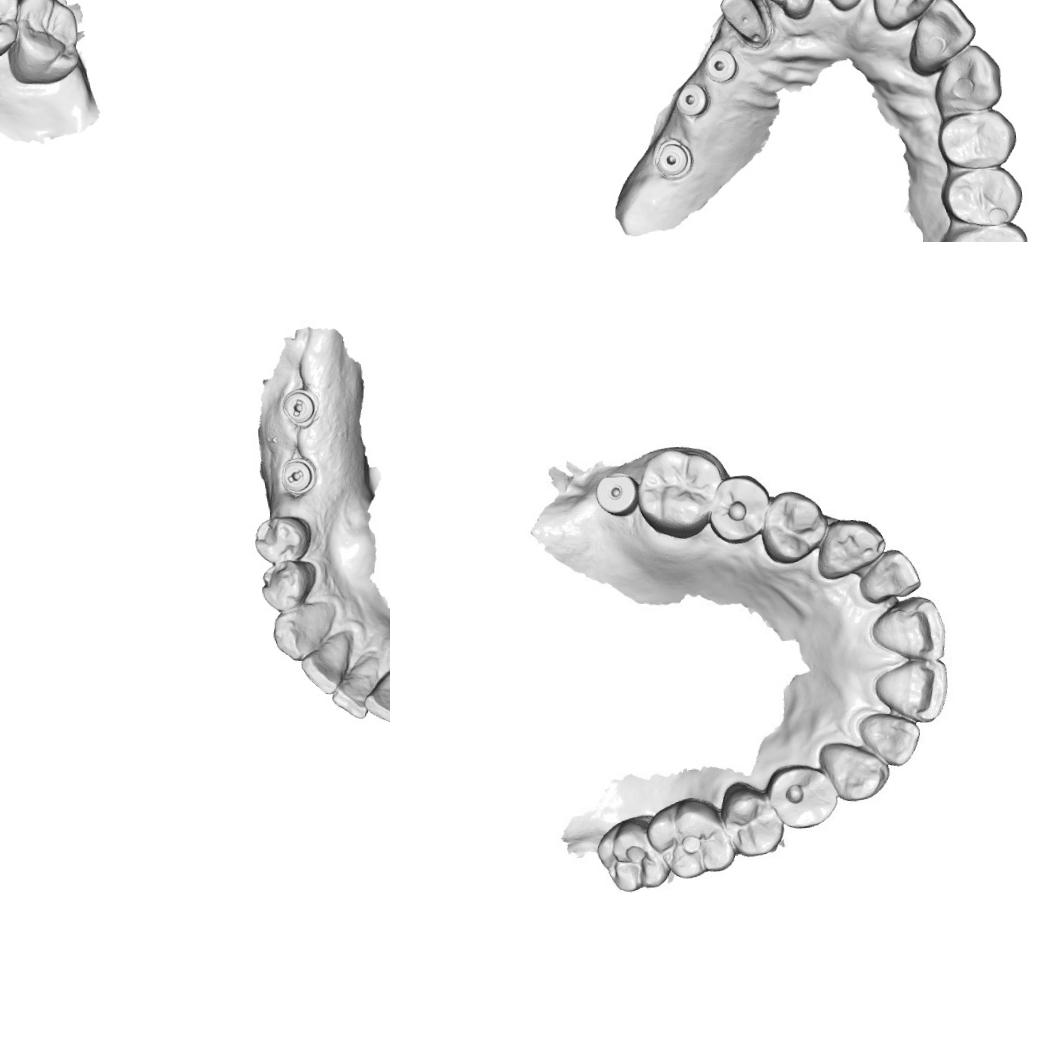canine: (928, 42, 1004, 117), (821, 735, 891, 802), (269, 599, 337, 662), (818, 518, 885, 581)
crown: (715, 0, 771, 50)
implant: (592, 466, 642, 522), (648, 140, 695, 180), (674, 80, 712, 116), (704, 46, 739, 85)
implant_minus: (279, 384, 320, 431), (277, 455, 318, 499)
incisor: (907, 0, 978, 66), (878, 657, 947, 721), (873, 598, 940, 658), (298, 631, 356, 696), (858, 548, 920, 602), (858, 709, 916, 764), (328, 660, 373, 721), (865, 0, 943, 32), (361, 669, 390, 727), (752, 0, 818, 21)
molar: (1, 0, 84, 87), (638, 448, 720, 532), (648, 799, 733, 878), (596, 815, 670, 894), (931, 218, 1035, 242)
premolar: (937, 164, 1026, 229), (935, 108, 1018, 170), (769, 762, 838, 827), (760, 489, 822, 560), (711, 474, 772, 542), (724, 784, 779, 856), (249, 512, 313, 567), (258, 556, 319, 613)
